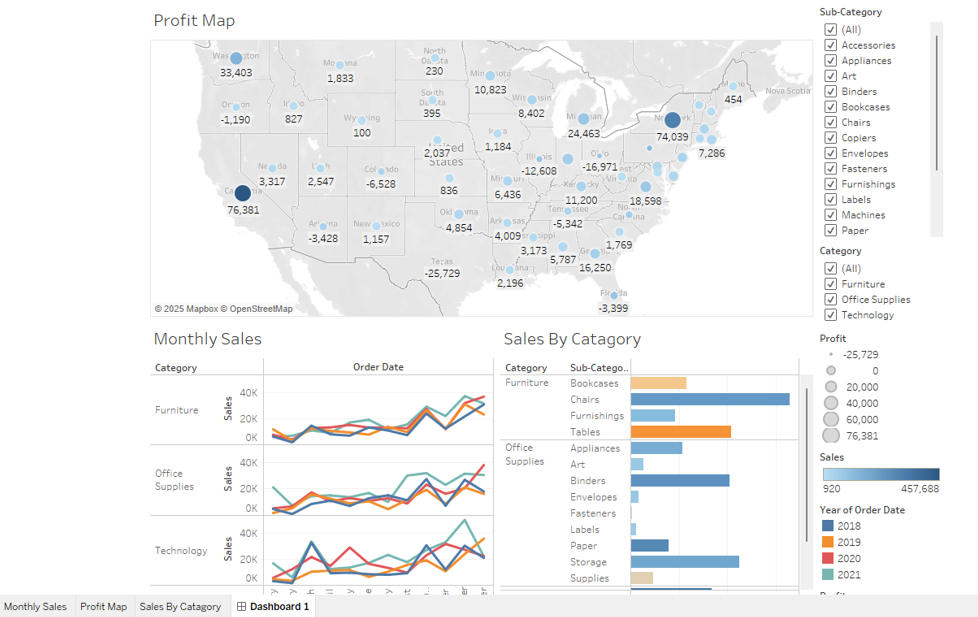

What the dashboard file says about the page in this screenshot:
{"tool":"tableau","page":{"name":"Dashboard 1","canvas":[1000,800],"ordinal":0},"visuals":[{"type":"worksheet","title":"Profit Map","mark":"Automatic","box":[8,8,824,392]},{"type":"filter","title":"Profit Map","param":"[federated.0okurse0gk0n39139e77e1da7749].[none:Sub-Category:nk]","box":[832,8,160,294]},{"type":"filter","title":"Profit Map","param":"[federated.0okurse0gk0n39139e77e1da7749].[none:Category:nk]","box":[832,302,160,108]},{"type":"worksheet","title":"Monthly Sales","mark":"Line","rows":["Category","Sales"],"cols":["Order Date"],"box":[8,400,431,392]},{"type":"worksheet","title":"Sales By Catagory","mark":"Automatic","rows":["Category","Sub-Category"],"cols":["Sales"],"box":[439,400,393,392]},{"type":"legend","title":"Profit Map","param":"[federated.0okurse0gk0n39139e77e1da7749].[sum:Profit:qk]","box":[832,410,160,146]},{"type":"legend","title":"Profit Map","param":"[federated.0okurse0gk0n39139e77e1da7749].[sum:Sales:qk]","box":[832,556,160,65]},{"type":"legend","title":"Monthly Sales","param":"[federated.0okurse0gk0n39139e77e1da7749].[yr:Order Date:ok]","box":[832,621,160,106]},{"type":"legend","title":"Sales By Catagory","param":"[federated.0okurse0gk0n39139e77e1da7749].[sum:Profit:qk]","box":[832,727,160,65]}]}

Visuals, with their boxes on the page's 1000x800 design canvas (x1, y1, x2, y2). These are canvas units, not pixel positions in the 978x617 screenshot, which may show the page scaled, cropped or inside an application window:
"Profit Map" worksheet: bbox=[8, 8, 832, 400]
"Profit Map" filter: bbox=[832, 8, 992, 302]
"Profit Map" filter: bbox=[832, 302, 992, 410]
"Monthly Sales" worksheet (Line marks): bbox=[8, 400, 439, 792]
"Sales By Catagory" worksheet: bbox=[439, 400, 832, 792]
"Profit Map" legend: bbox=[832, 410, 992, 556]
"Profit Map" legend: bbox=[832, 556, 992, 621]
"Monthly Sales" legend: bbox=[832, 621, 992, 727]
"Sales By Catagory" legend: bbox=[832, 727, 992, 792]
